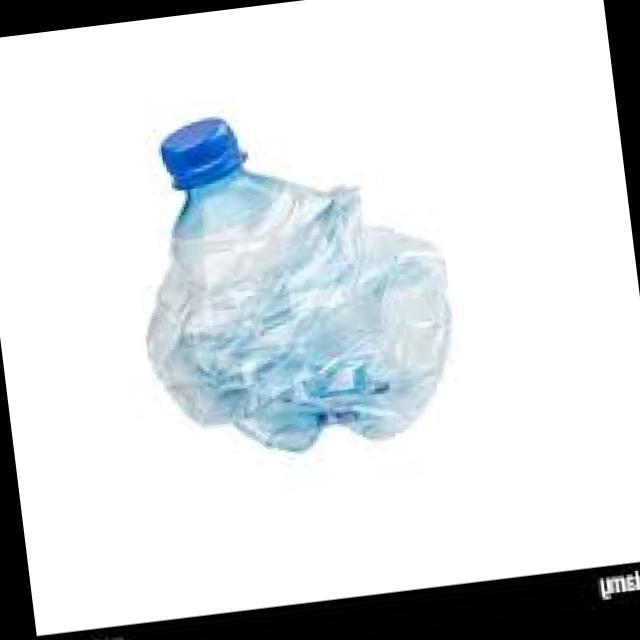defected: (103, 68, 484, 476)
